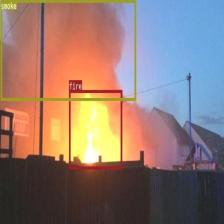fire: (69, 90, 122, 168)
smoke: (0, 0, 135, 100)
